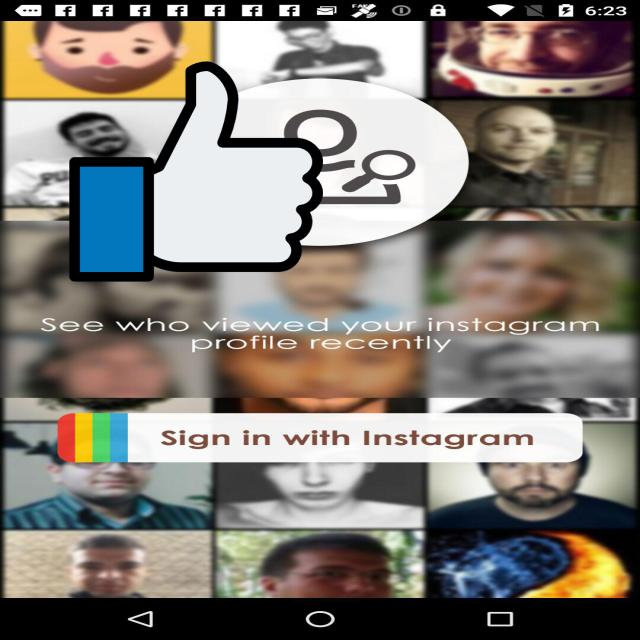privacy zuckering: (69, 57, 323, 286)
